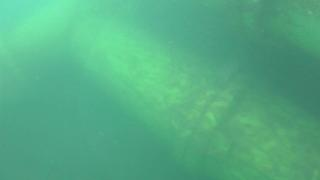pipe: (69, 15, 320, 180), (1, 1, 91, 98), (198, 1, 320, 56)
